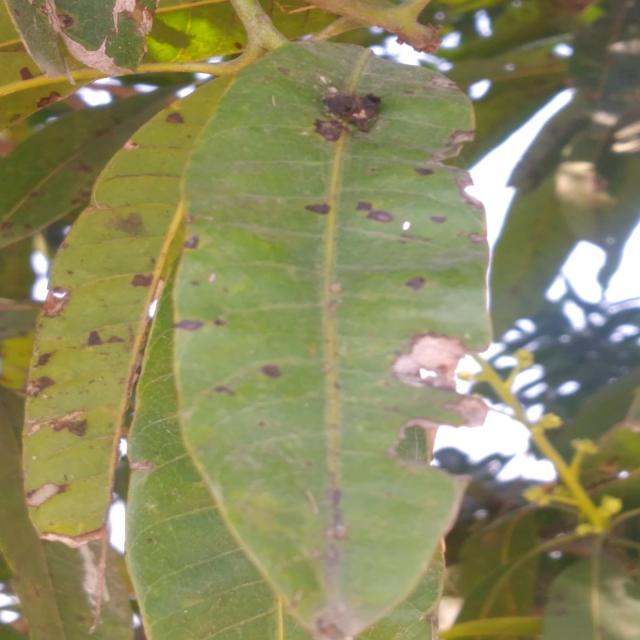Anthracnose: (311, 190, 399, 234), (41, 413, 98, 449), (154, 103, 198, 126), (118, 210, 153, 237), (257, 361, 289, 382)
Bacterial Cancer: (388, 330, 472, 392), (427, 132, 476, 176)
